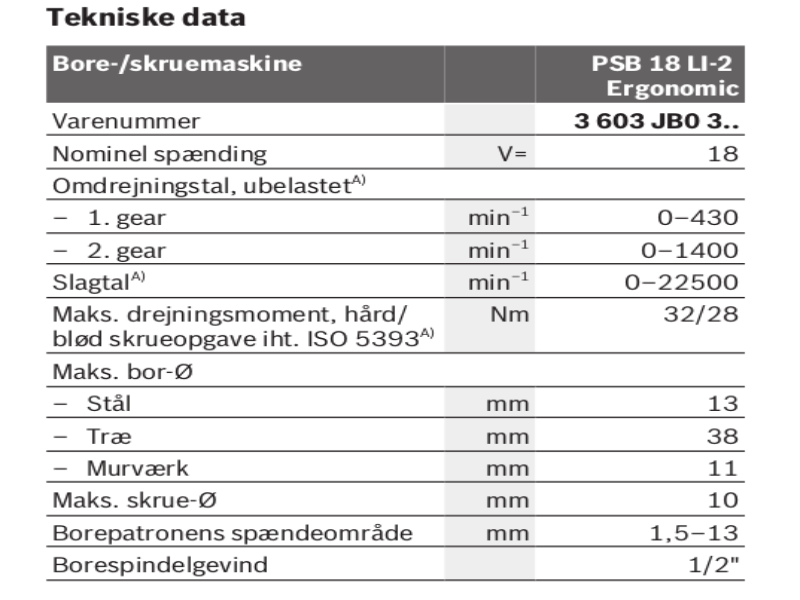borderless: (30, 36, 772, 589)
cell: (43, 301, 439, 348), (42, 520, 422, 543), (588, 46, 744, 99), (46, 171, 372, 196), (42, 551, 279, 578), (49, 51, 315, 75), (46, 141, 276, 166), (42, 486, 225, 513), (570, 104, 746, 131), (43, 453, 203, 479), (44, 356, 210, 381), (45, 266, 191, 293), (48, 107, 209, 131), (45, 235, 187, 262), (46, 204, 181, 229), (620, 268, 747, 294), (43, 421, 169, 446), (43, 390, 167, 415), (636, 238, 746, 261), (450, 232, 534, 262), (450, 266, 534, 296), (646, 520, 748, 543), (658, 301, 748, 327), (449, 388, 534, 415), (450, 421, 535, 448), (451, 453, 536, 480), (452, 485, 537, 512), (452, 517, 537, 544), (450, 202, 534, 229), (650, 206, 744, 228), (674, 551, 749, 575), (478, 303, 535, 330), (703, 487, 746, 513), (492, 139, 533, 164), (703, 423, 743, 447), (705, 141, 746, 164), (703, 456, 744, 478), (703, 391, 742, 414)
